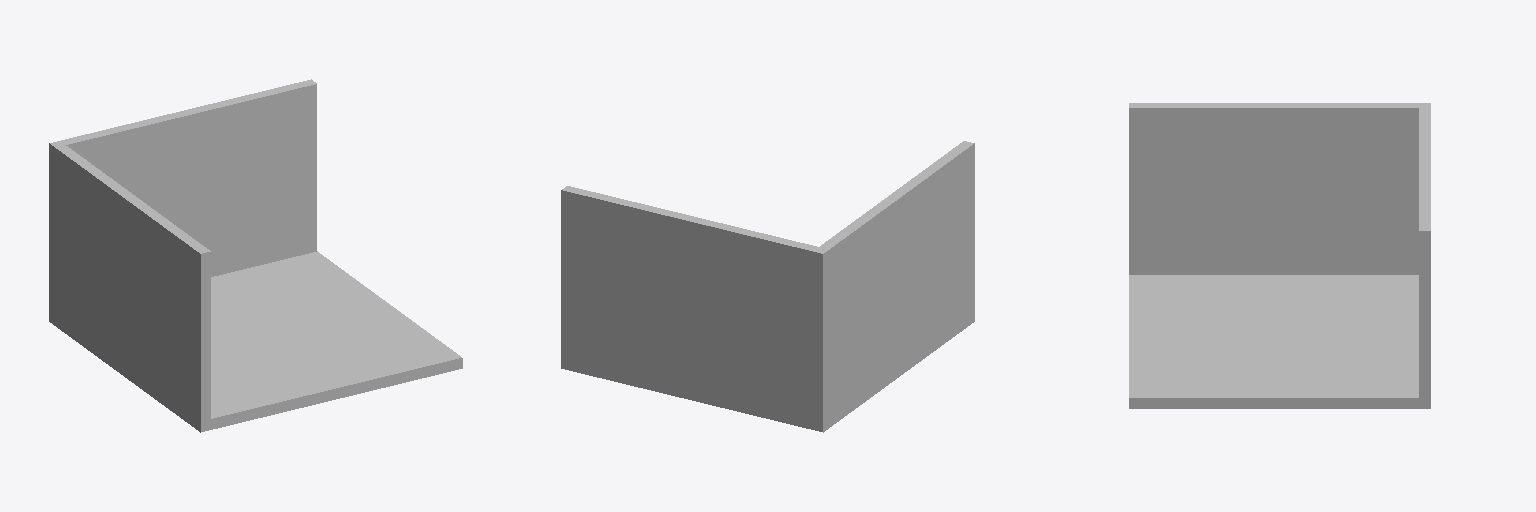
File: isometric room.obj
3 views of the same model, side by side, from view 1: azimuth 30°, elevation 25°; view 2: azimuth 150°, elevation 25°; view 3: azimuth 270°, elevation 25° (orthographic).
Parts seen in each view (by area): view 1: Cube; view 2: Cube; view 3: Cube.
Boxes of the visible parts, <box> form: Cube: <box>49,79,462,432</box>; Cube: <box>561,141,974,432</box>; Cube: <box>1129,103,1430,408</box>.
Bounding box in the file's own units: 8.66 × 5.64 × 8.66.